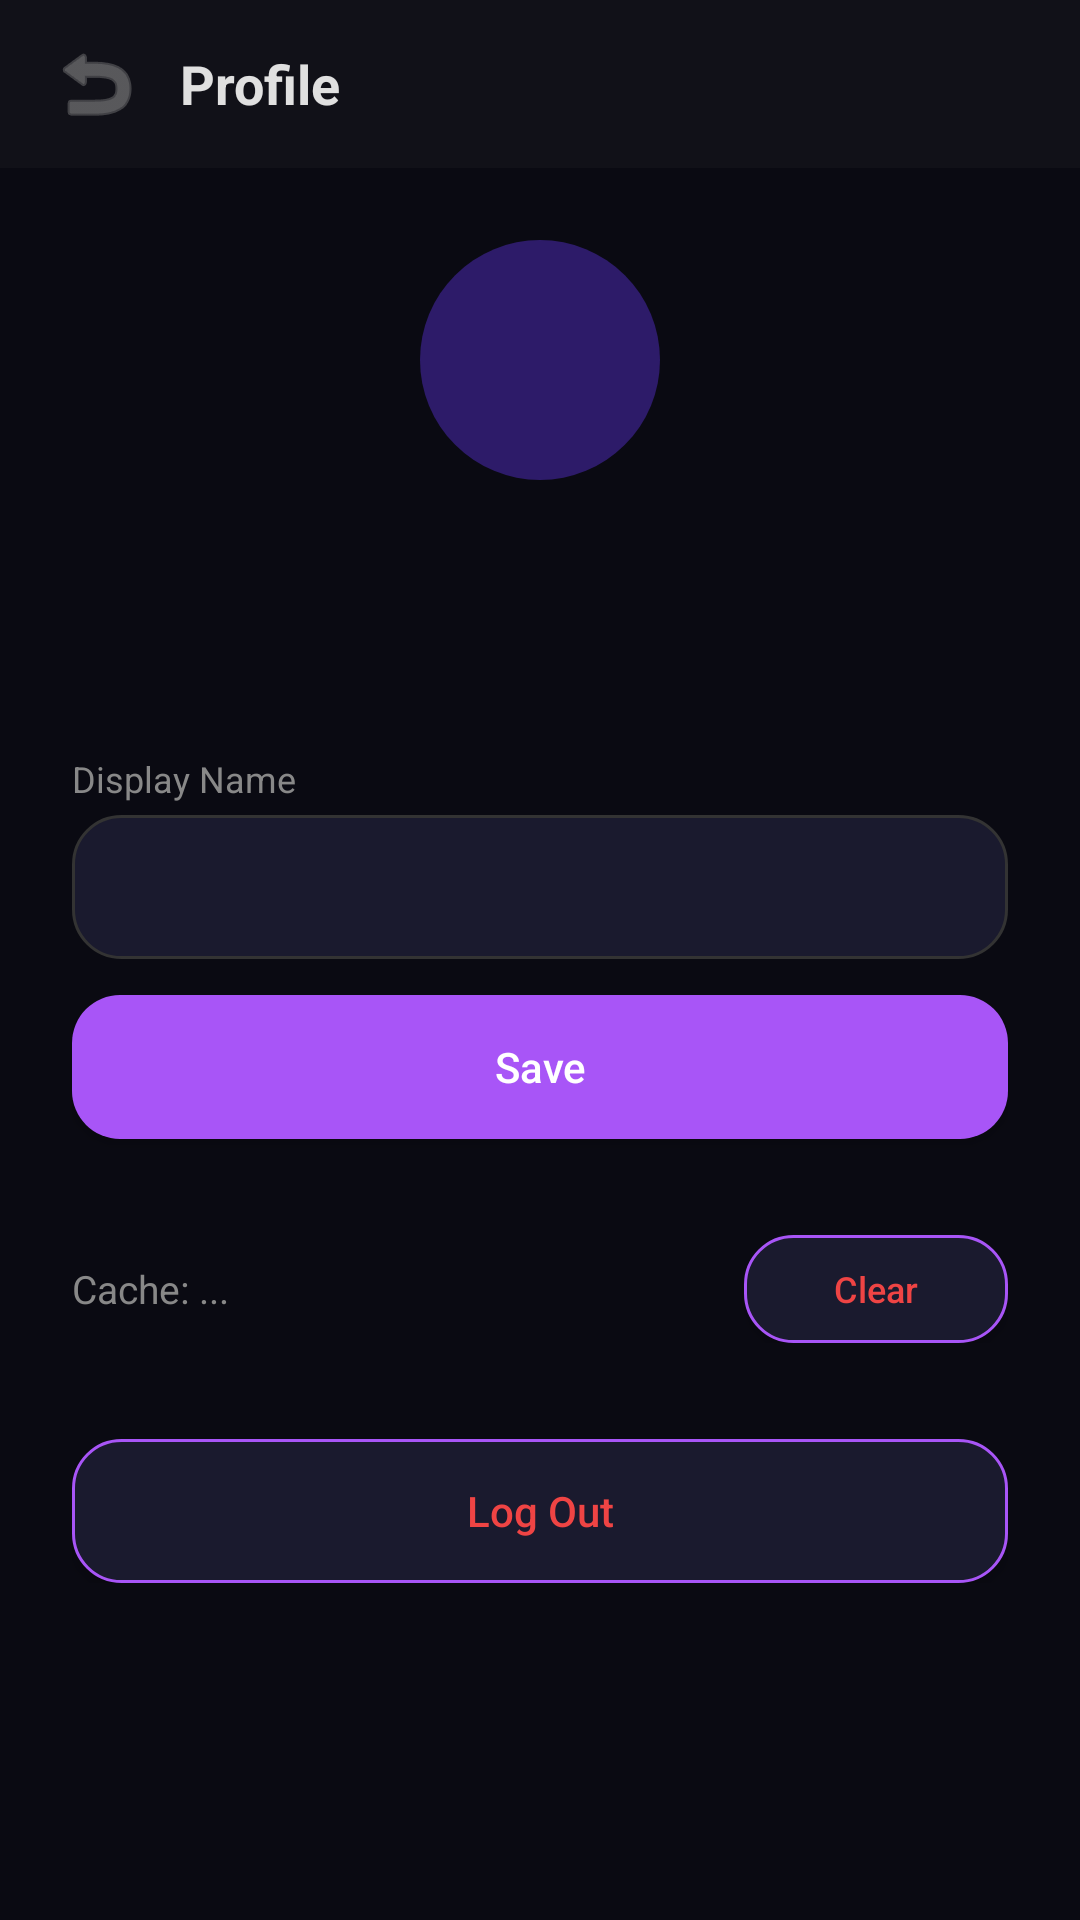

Named icons in this screenshot (1080 x 1920) and their centers, (x=x, y=y):
Back: (x=97, y=85)
